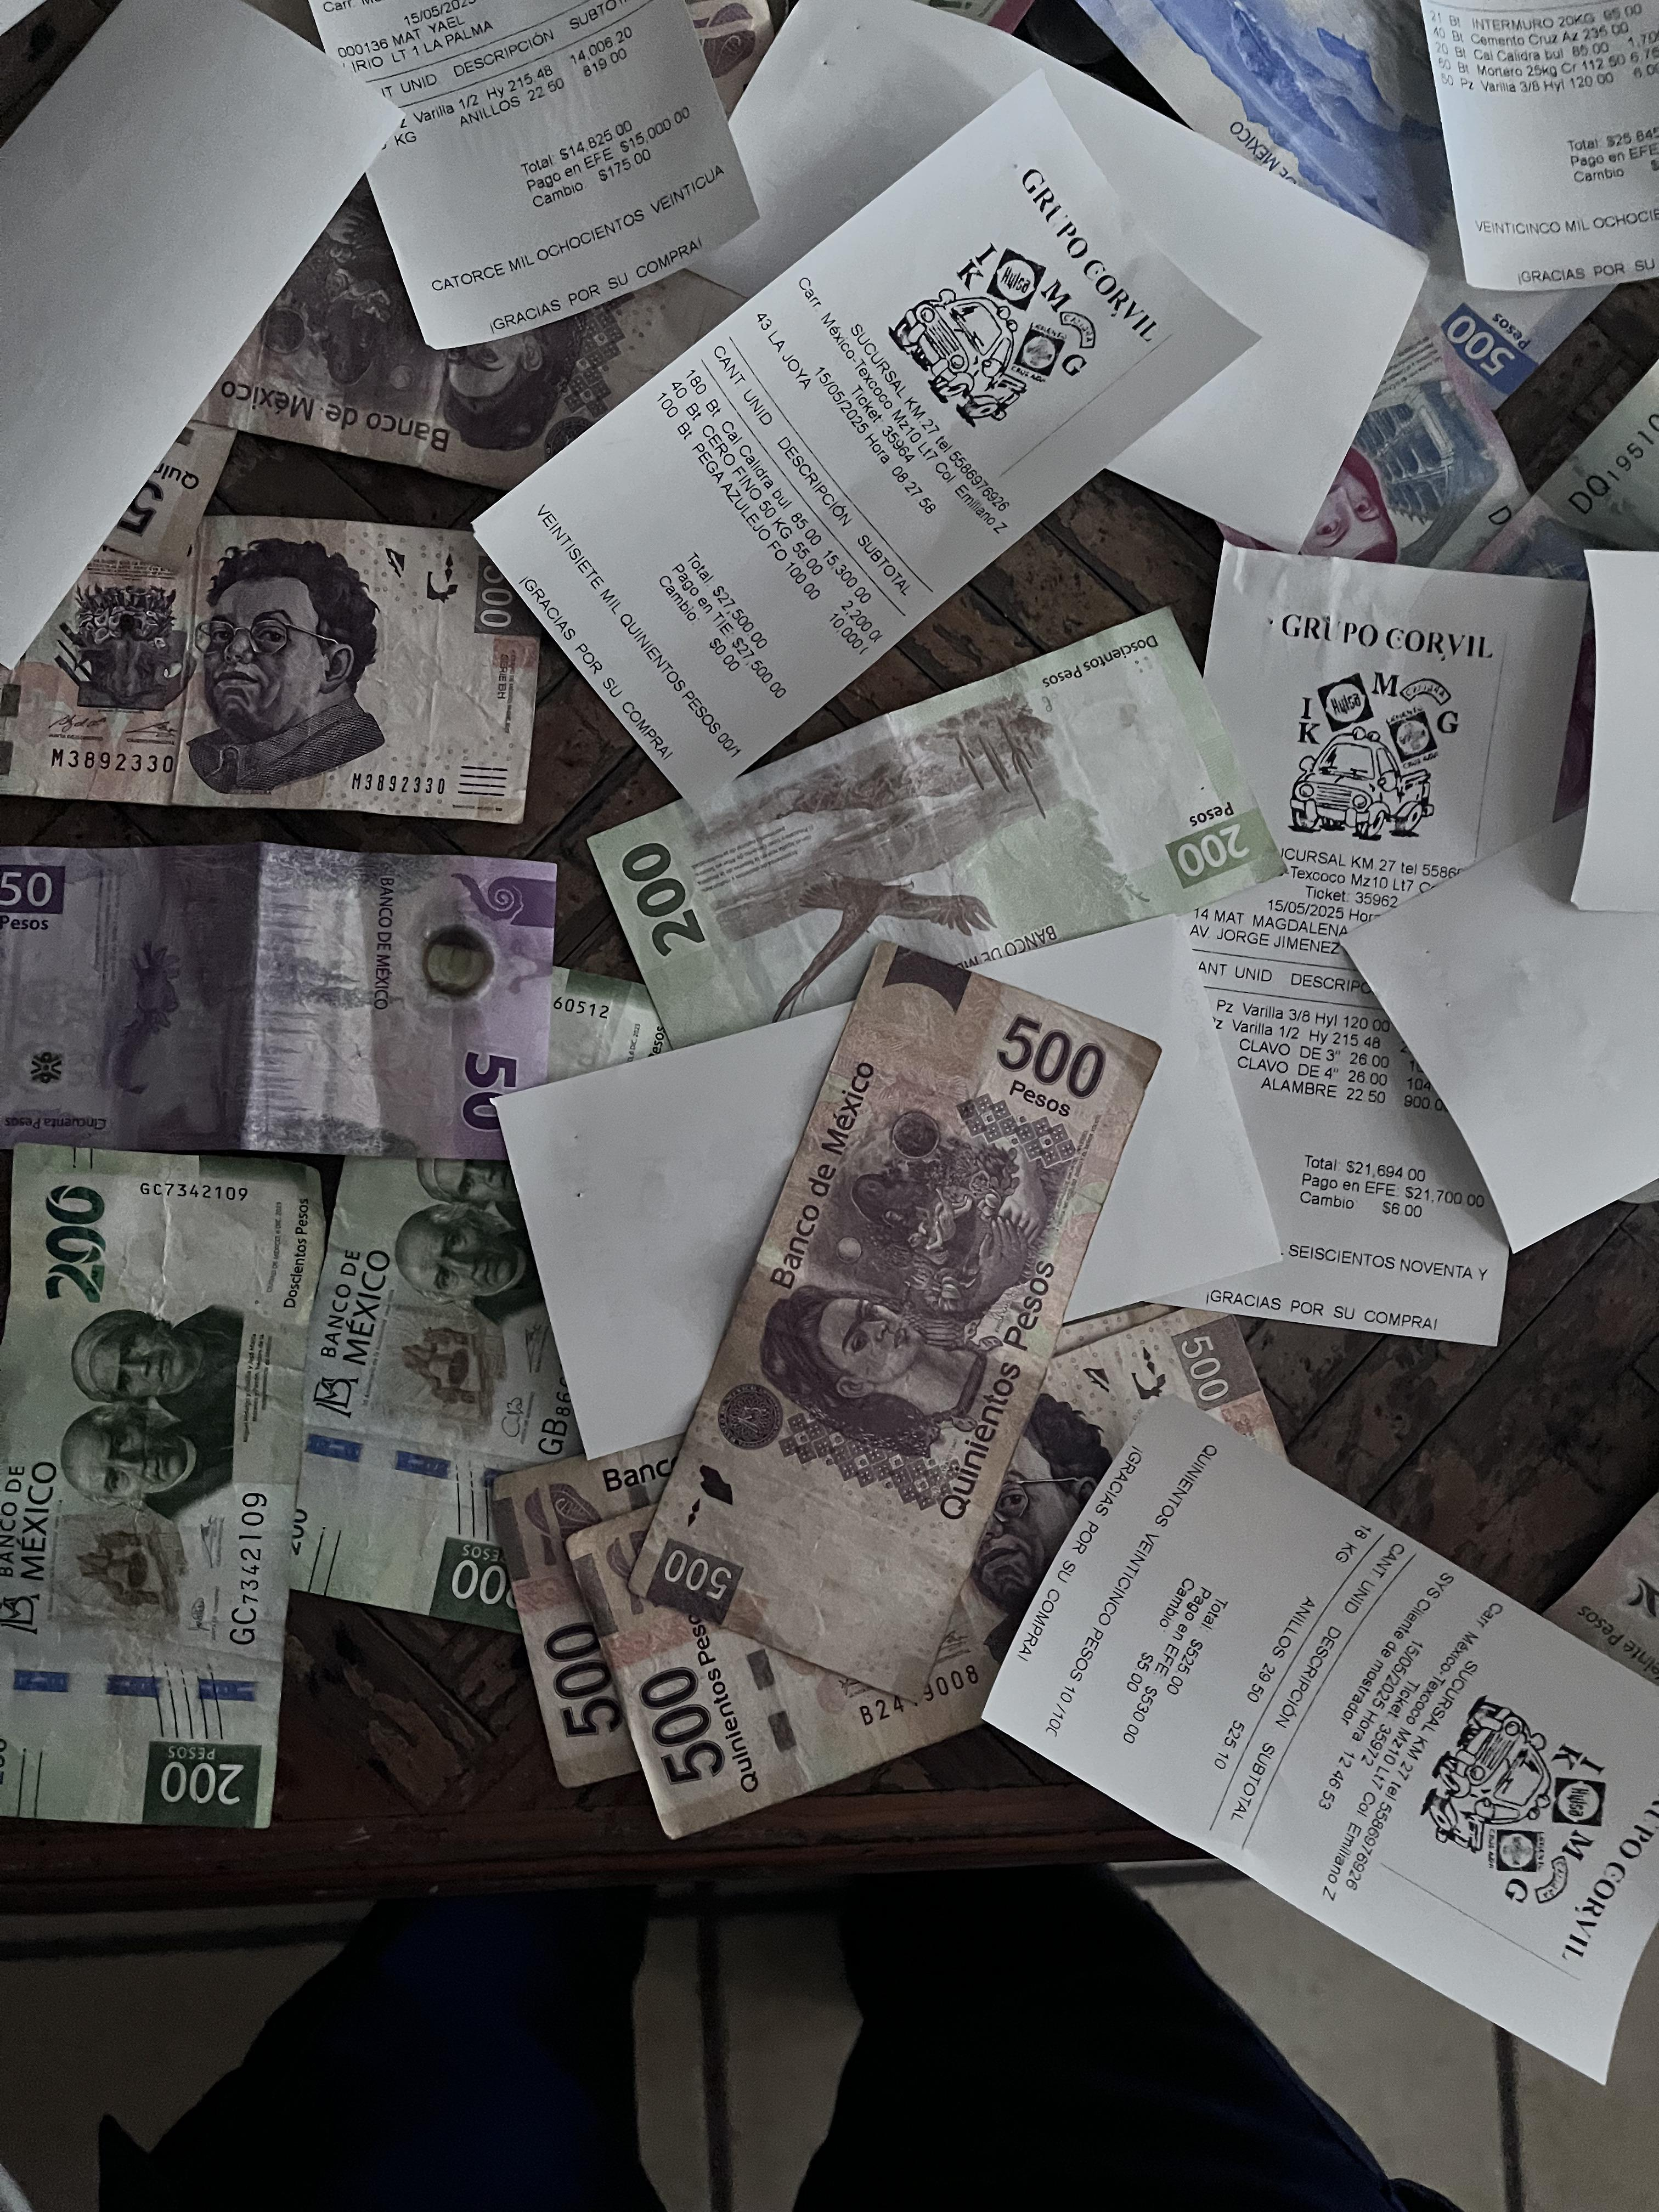100: (1182, 291, 1535, 610)
200: (249, 965, 699, 1618), (545, 624, 1293, 1015), (0, 1108, 343, 1890)
50: (0, 822, 579, 1179)
500: (641, 930, 1159, 1712), (636, 1299, 1302, 1874), (148, 146, 803, 516), (0, 482, 559, 822)
500 nuevo: (1086, 0, 1595, 395)
